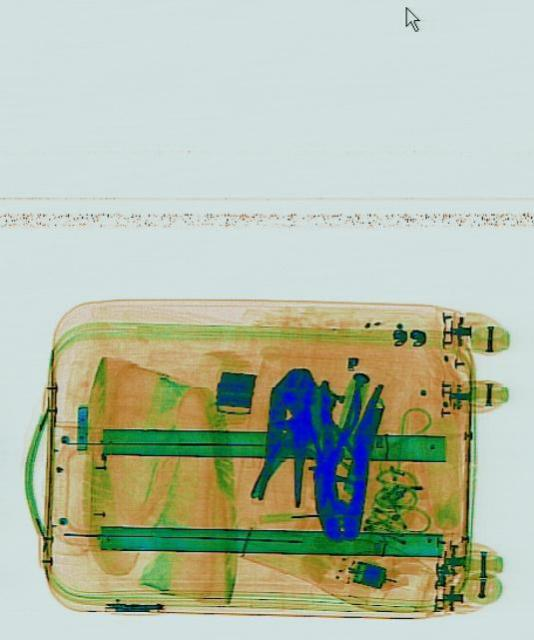Pliers: (305, 380, 382, 542), (302, 378, 361, 488)
